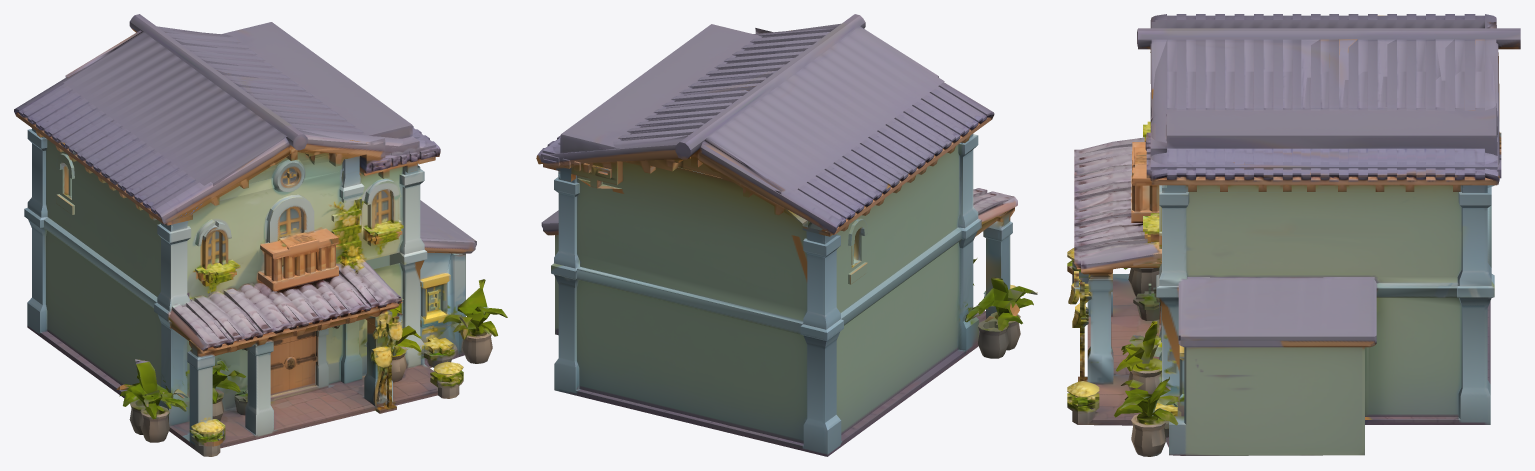
Rendered from CasaVerdeAlta.fbx.
3 views of the same model, side by side, from view 1: azimuth 30°, elevation 25°; view 2: azimuth 150°, elevation 25°; view 3: azimuth 270°, elevation 25° (orthographic). The views are drawn at different scales.
Visible parts, largest first — view 1: mesh_rep_0_ori_repair_quad; view 2: mesh_rep_0_ori_repair_quad; view 3: mesh_rep_0_ori_repair_quad.
Boxes of the visible parts, x1,y1,x2,y2 form: mesh_rep_0_ori_repair_quad: (14, 14, 507, 456); mesh_rep_0_ori_repair_quad: (536, 14, 1037, 456); mesh_rep_0_ori_repair_quad: (1067, 14, 1520, 456).
Bounding box in the file's own units: 88.77 × 63.39 × 81.01.
